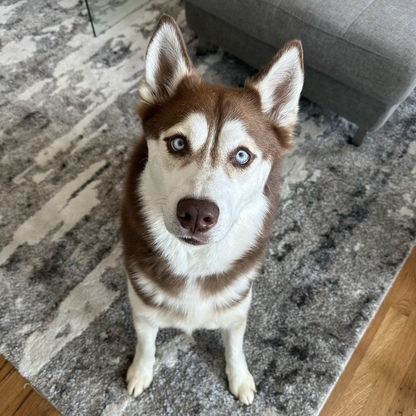husky: (115, 11, 308, 409)
